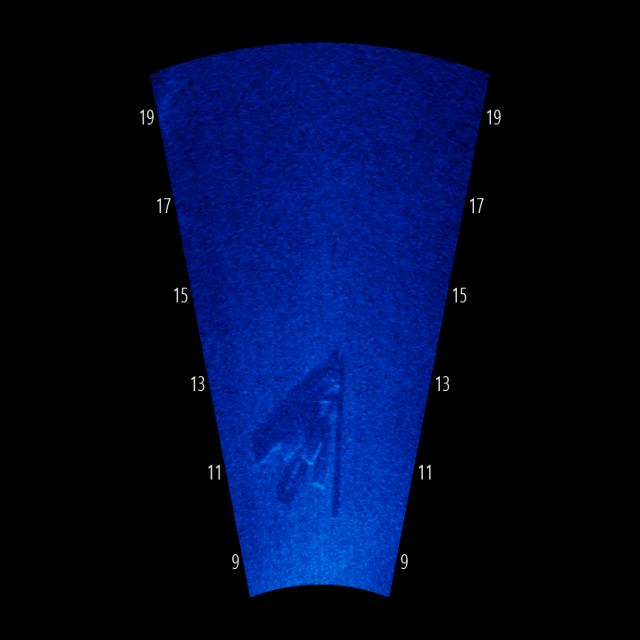triangle: (243, 345, 358, 531)
